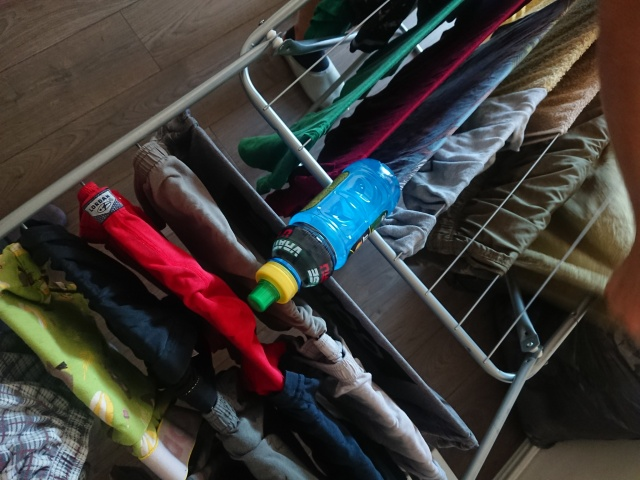Vindi Iso Sport Forest Strawberries 500mL: (244, 155, 403, 313)
